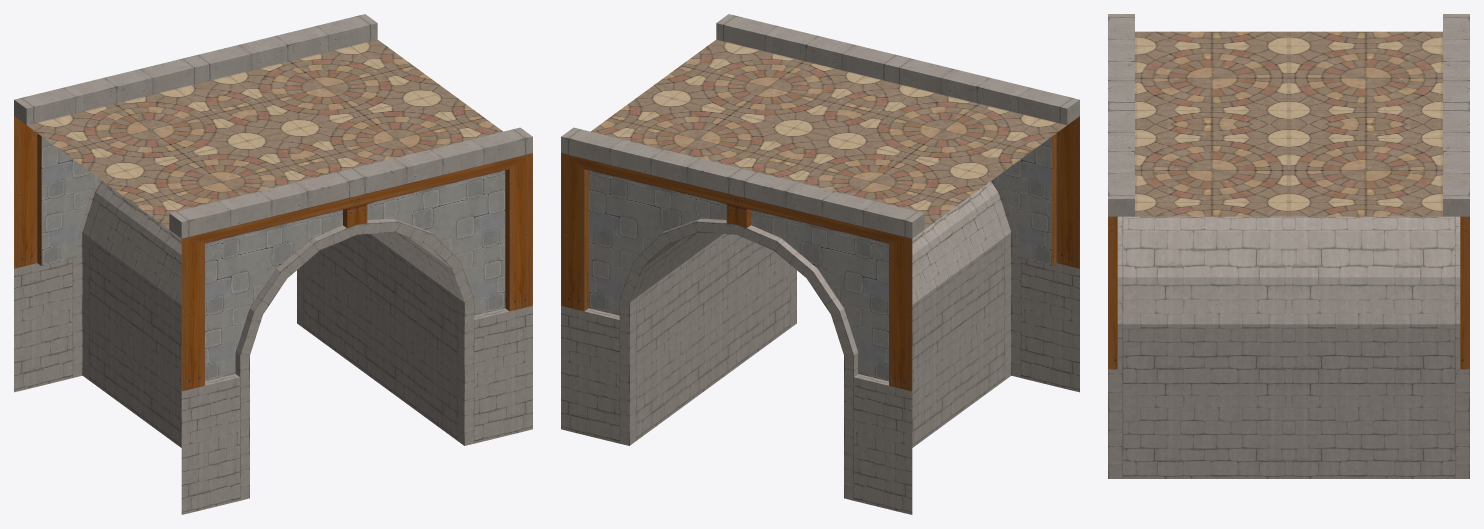
Rendered from Bridge_A.fbx.
3 renders of one model, left to right at view 1: azimuth 30°, elevation 25°; view 2: azimuth 150°, elevation 25°; view 3: azimuth 270°, elevation 25°, orthographic. The views are drawn at different scales.
Parts seen in each view (by area): view 1: Bridge_A; view 2: Bridge_A; view 3: Bridge_A.
Boxes of the visible parts, x1=… form: Bridge_A: x1=14, y1=14, x2=532, y2=514; Bridge_A: x1=561, y1=14, x2=1079, y2=514; Bridge_A: x1=1108, y1=14, x2=1469, y2=478.
Bounding box in the file's own units: 1570 × 1251 × 1298.
Materials: 4 (4 with a texture image).
